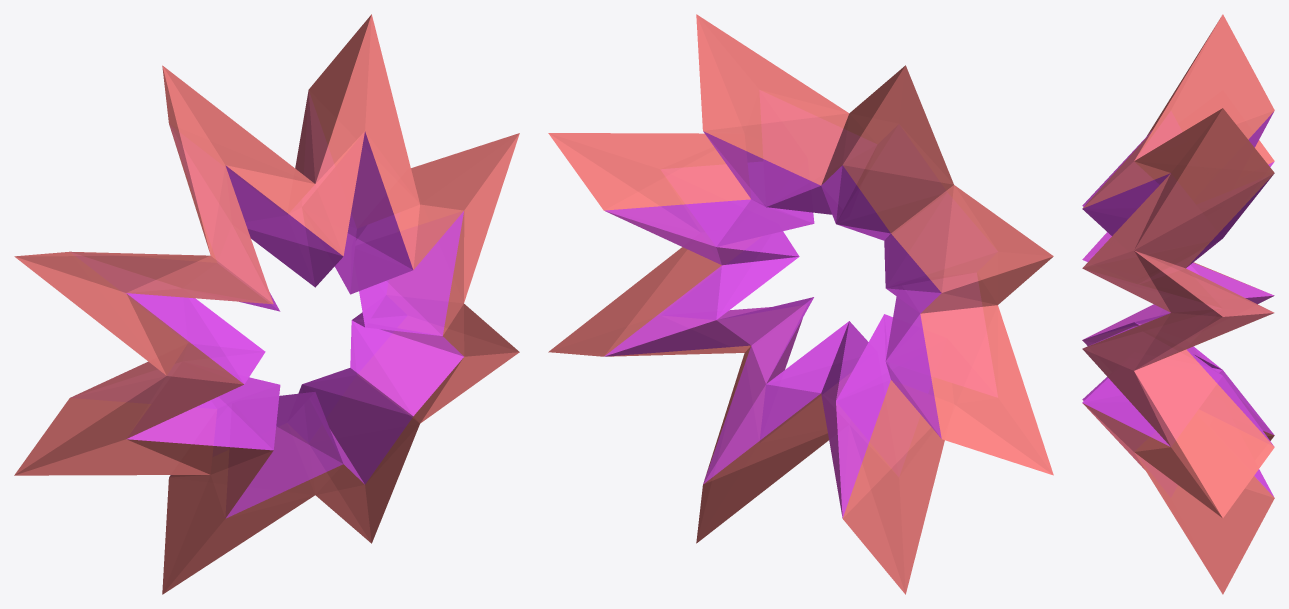
Rendered from Regular8TetragonalStarToroid1.obj.
3 renders of one model, left to right at view 1: azimuth 30°, elevation 25°; view 2: azimuth 150°, elevation 25°; view 3: azimuth 270°, elevation 25°, orthographic. The views are drawn at different scales.
Size of the model in its own units: 3.62 by 3.62 by 1.3.
